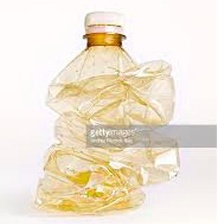bottle: (18, 8, 189, 219)
